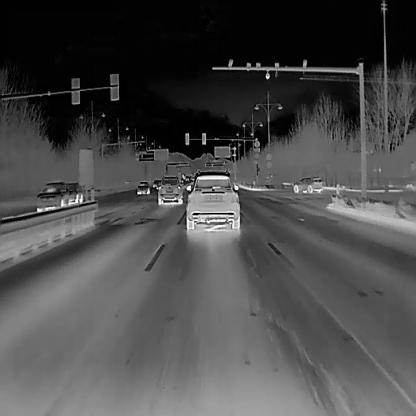car: (186, 169, 240, 230), (36, 182, 70, 213), (157, 176, 182, 205), (293, 176, 323, 194), (66, 181, 82, 205), (136, 181, 149, 195)
